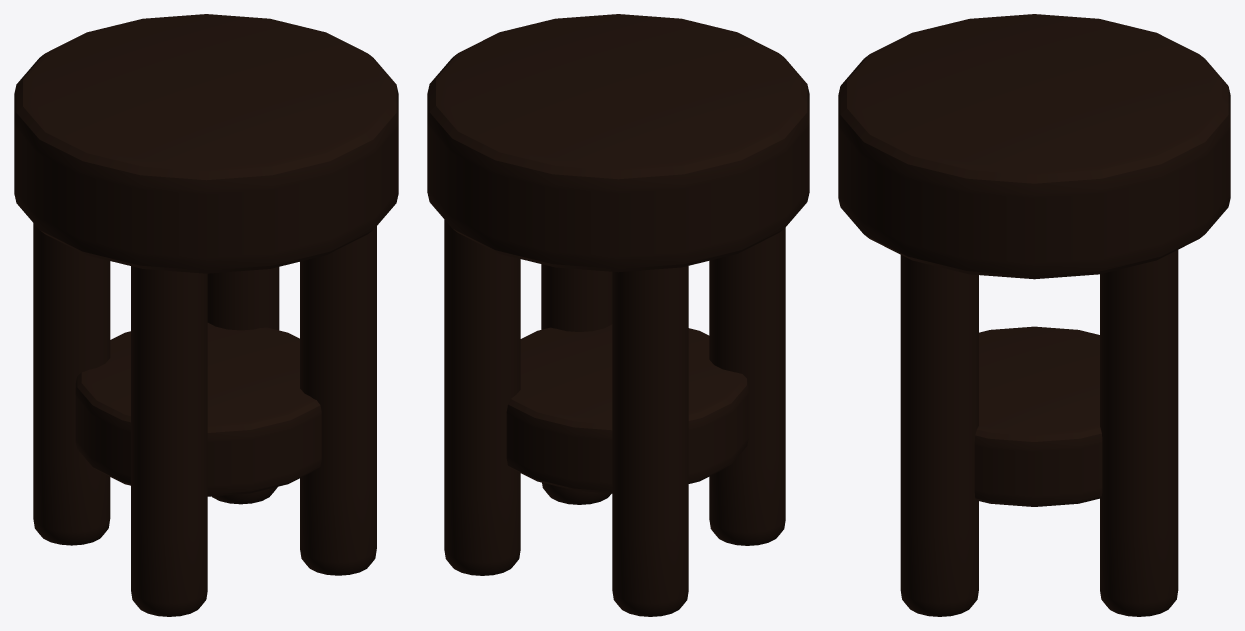
Rendered from SDT002.FBX.
The picture shows the model from 3 angles, left to right: view 1: azimuth 30°, elevation 25°; view 2: azimuth 150°, elevation 25°; view 3: azimuth 270°, elevation 25°; orthographic projection. The views are drawn at different scales.
Parts seen in each view (by area): view 1: SDT; view 2: SDT; view 3: SDT.
Part boxes in pixels (bbox=[...]): SDT: bbox=[14, 14, 398, 616]; SDT: bbox=[427, 14, 809, 616]; SDT: bbox=[838, 14, 1230, 616].
Size of the model in its own units: 10 by 13 by 9.85.
